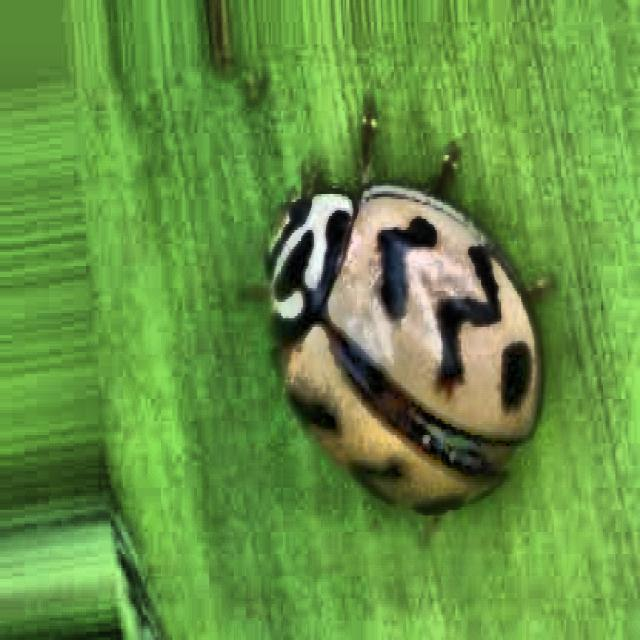Asian-Lady-beetle: (234, 82, 602, 640)
